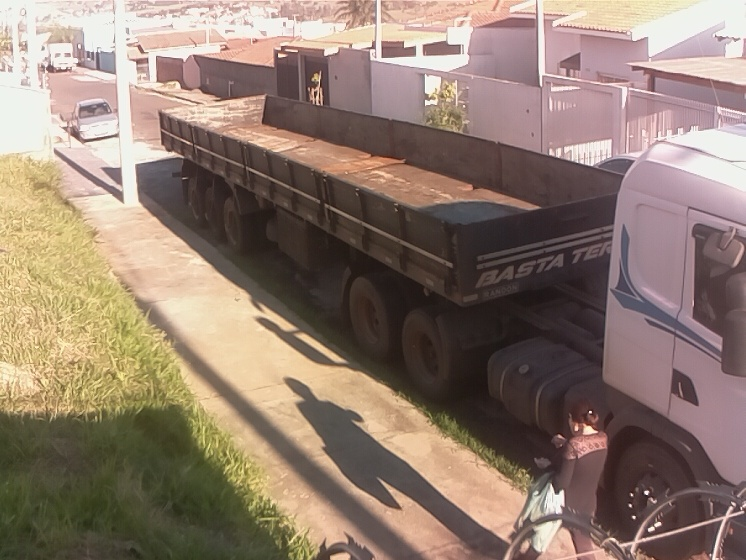person: (512, 400, 612, 560)
